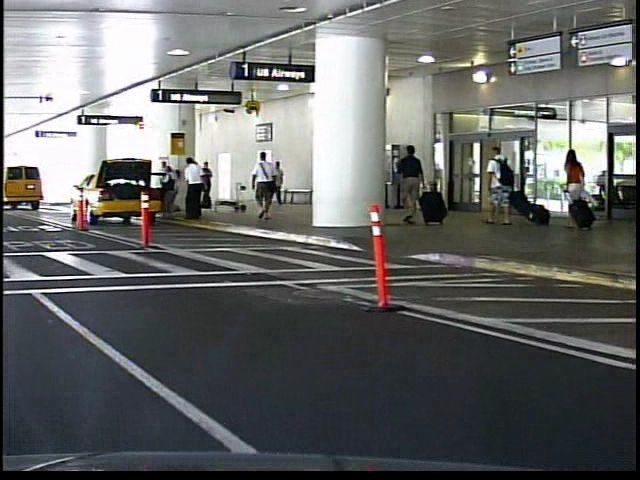person: (481, 140, 518, 225), (555, 144, 590, 230), (391, 142, 423, 228), (245, 149, 276, 222), (260, 161, 280, 208)
